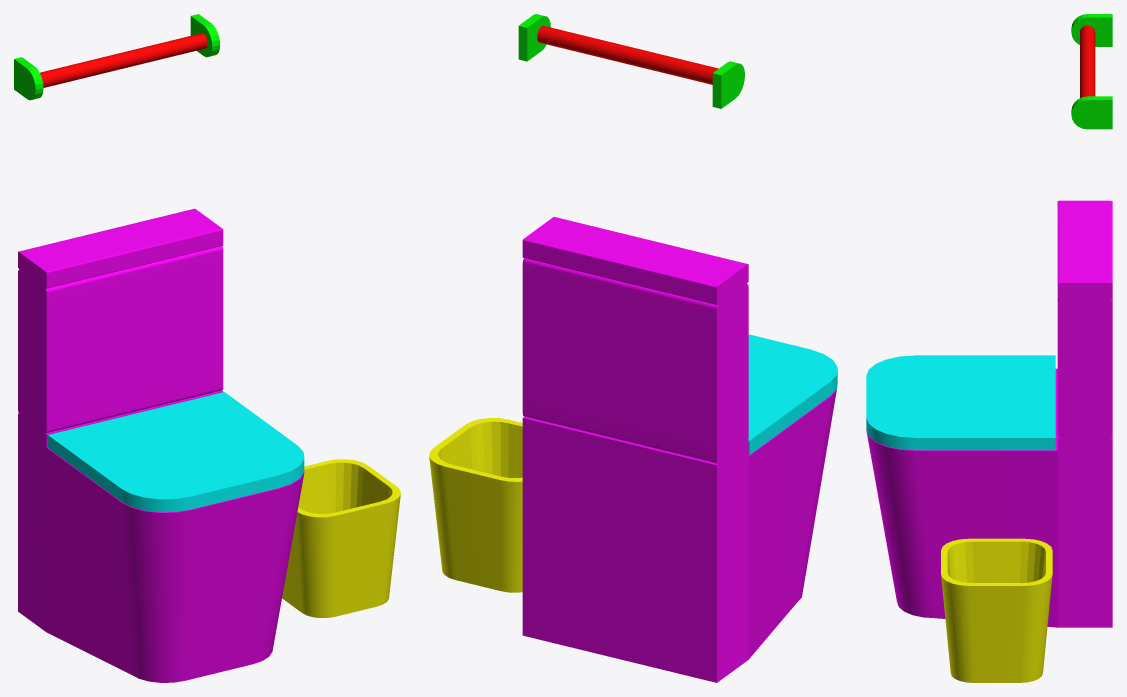
Rendered from Bath tool.fbx.
The picture shows the model from 3 angles, left to right: view 1: azimuth 30°, elevation 25°; view 2: azimuth 150°, elevation 25°; view 3: azimuth 270°, elevation 25°; orthographic projection. The views are drawn at different scales.
Visible parts, largest first — view 1: pasted__pCube1, pasted__pCube2, pasted__pPlane1, Bin, pasted__pCube3, Towel_Holder; view 2: pasted__pCube1, pasted__pCube2, Bin, pasted__pCube3, pasted__pPlane1, Towel_Holder; view 3: pasted__pCube1, pasted__pPlane1, Bin, pasted__pCube2, pasted__pCube3, Towel_Holder.
Boxes of the visible parts, x1,y1,x2,y2 form: pasted__pCube1: [18, 390, 304, 682]; pasted__pCube2: [18, 246, 223, 433]; pasted__pPlane1: [48, 392, 304, 512]; Bin: [282, 459, 400, 617]; pasted__pCube3: [18, 208, 223, 288]; Towel_Holder: [14, 14, 219, 100]; pasted__pCube1: [522, 384, 837, 682]; pasted__pCube2: [522, 258, 748, 463]; Bin: [429, 418, 522, 592]; pasted__pCube3: [522, 217, 748, 304]; pasted__pPlane1: [748, 334, 837, 454]; Towel_Holder: [518, 14, 744, 108]; pasted__pCube1: [866, 368, 1112, 627]; pasted__pPlane1: [866, 355, 1055, 450]; Bin: [941, 538, 1052, 682]; pasted__pCube2: [1057, 299, 1112, 438]; pasted__pCube3: [1057, 200, 1112, 299]; Towel_Holder: [1071, 14, 1112, 129].
Bounding box in the file's own units: 2.25 × 3.87 × 1.63.
